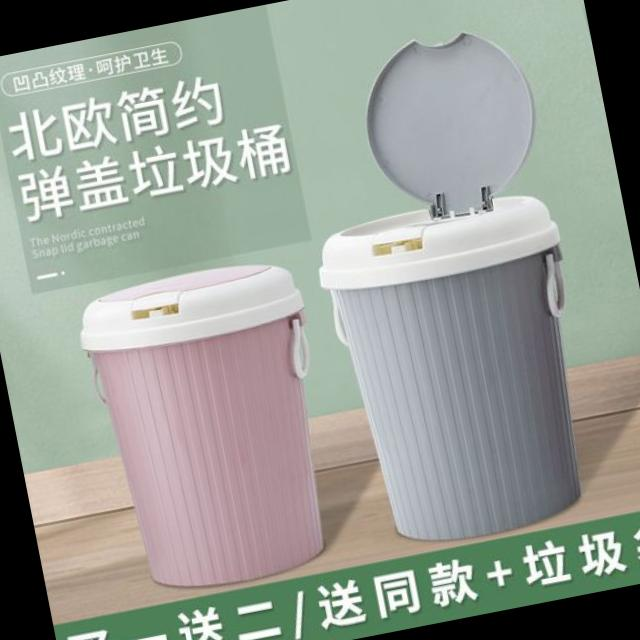dustbin: (268, 8, 629, 563), (68, 244, 362, 612)
